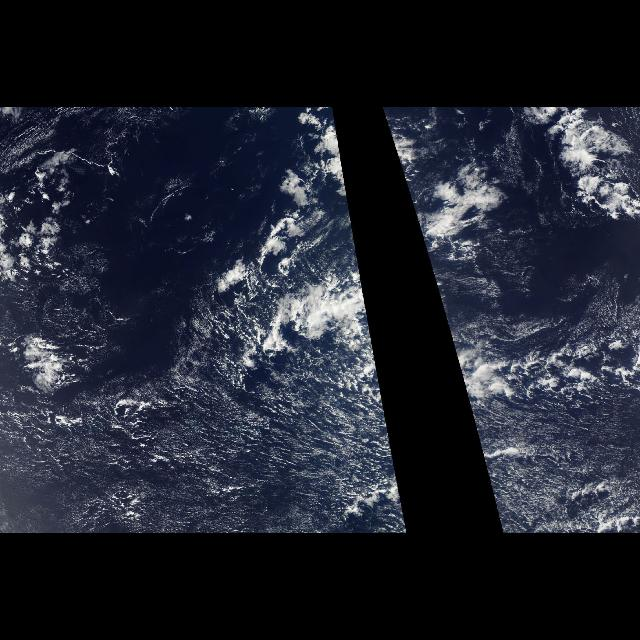Fish: (429, 264, 637, 412), (234, 264, 386, 412)
Sugar: (0, 311, 408, 534), (441, 311, 639, 534)
